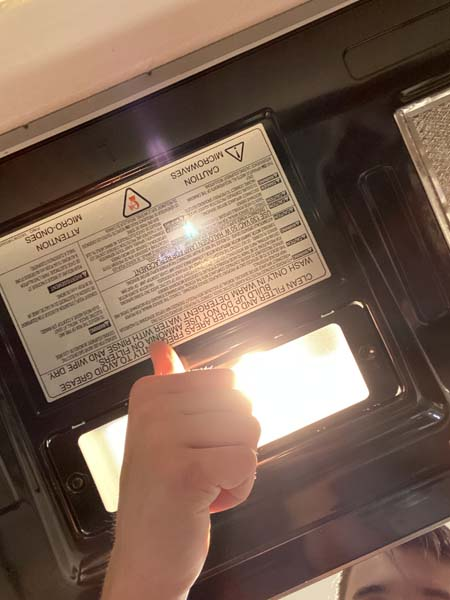Thumbs Up: (103, 325, 275, 575)
